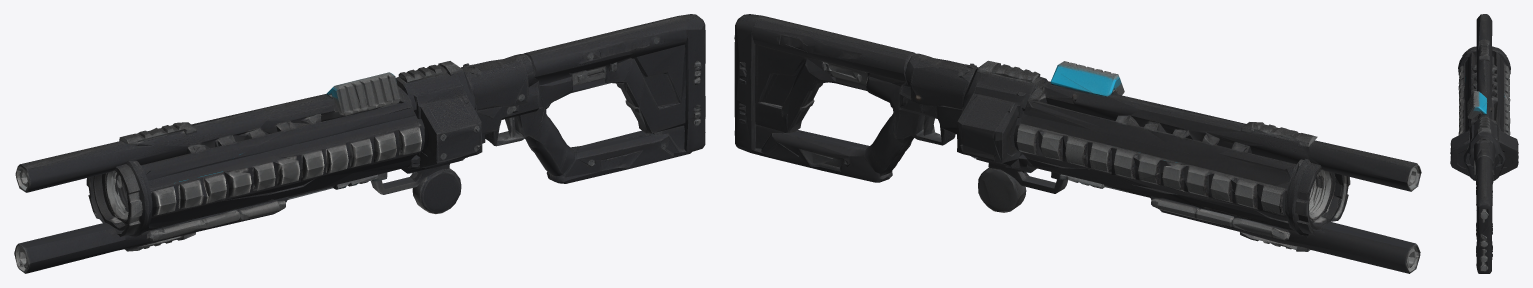
File: railgun.glb
3 renders of one model, left to right at view 1: azimuth 30°, elevation 25°; view 2: azimuth 150°, elevation 25°; view 3: azimuth 270°, elevation 25°, orthographic. The views are drawn at different scales.
Visible parts, largest first — view 1: mesh_node; view 2: mesh_node; view 3: mesh_node.
Boxes of the visible parts, x1,y1,x2,y2 form: mesh_node: (14,14,705,273); mesh_node: (734,14,1421,273); mesh_node: (1450,14,1518,273).
Size of the model in its own units: 1.9 by 0.4162 by 0.3011.
Materials: 1 (1 with a texture image).
